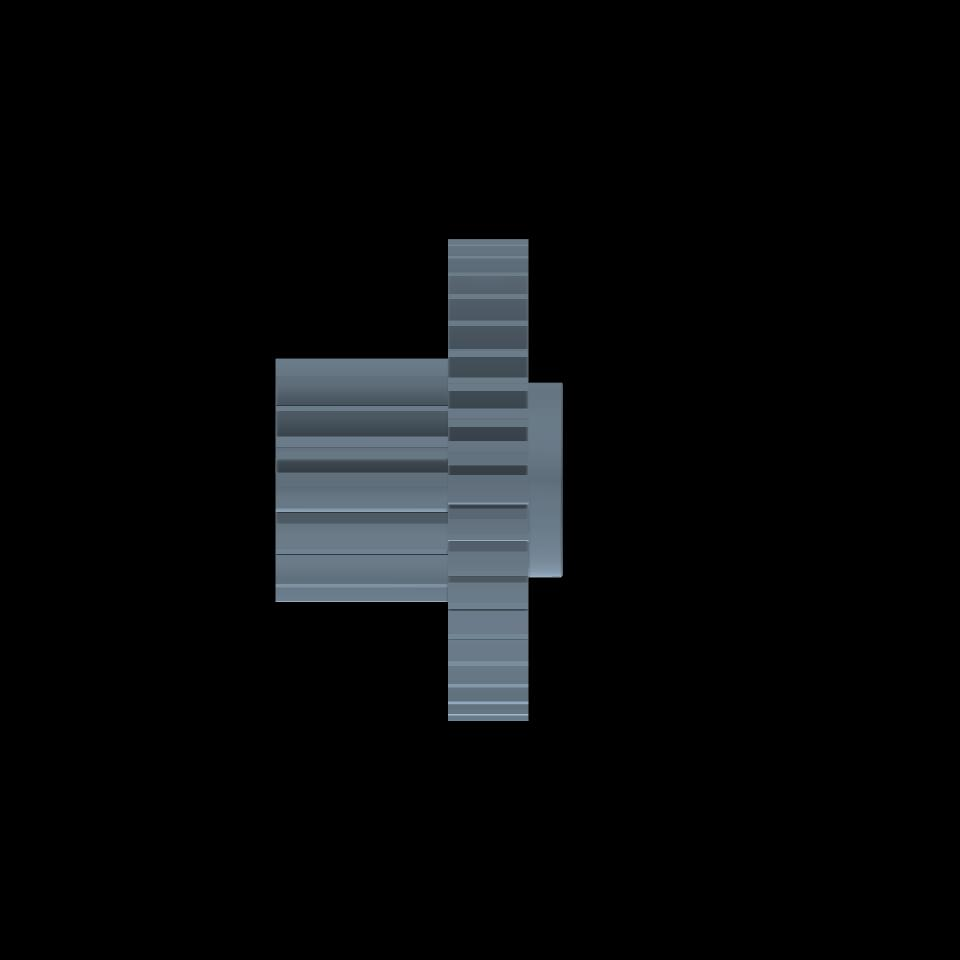Straight: (275, 359, 448, 601), (448, 239, 528, 721)
